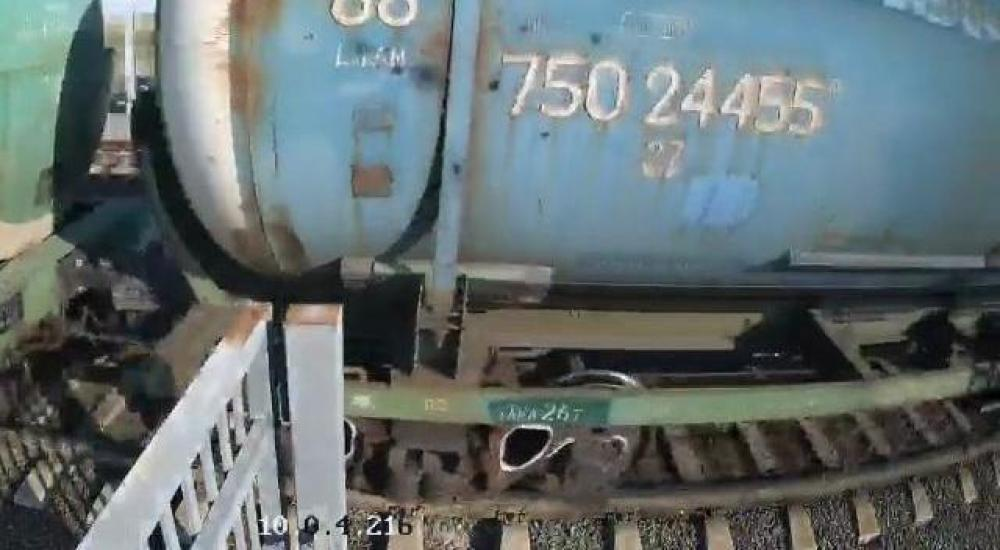Wagon-number: (497, 47, 826, 140)
